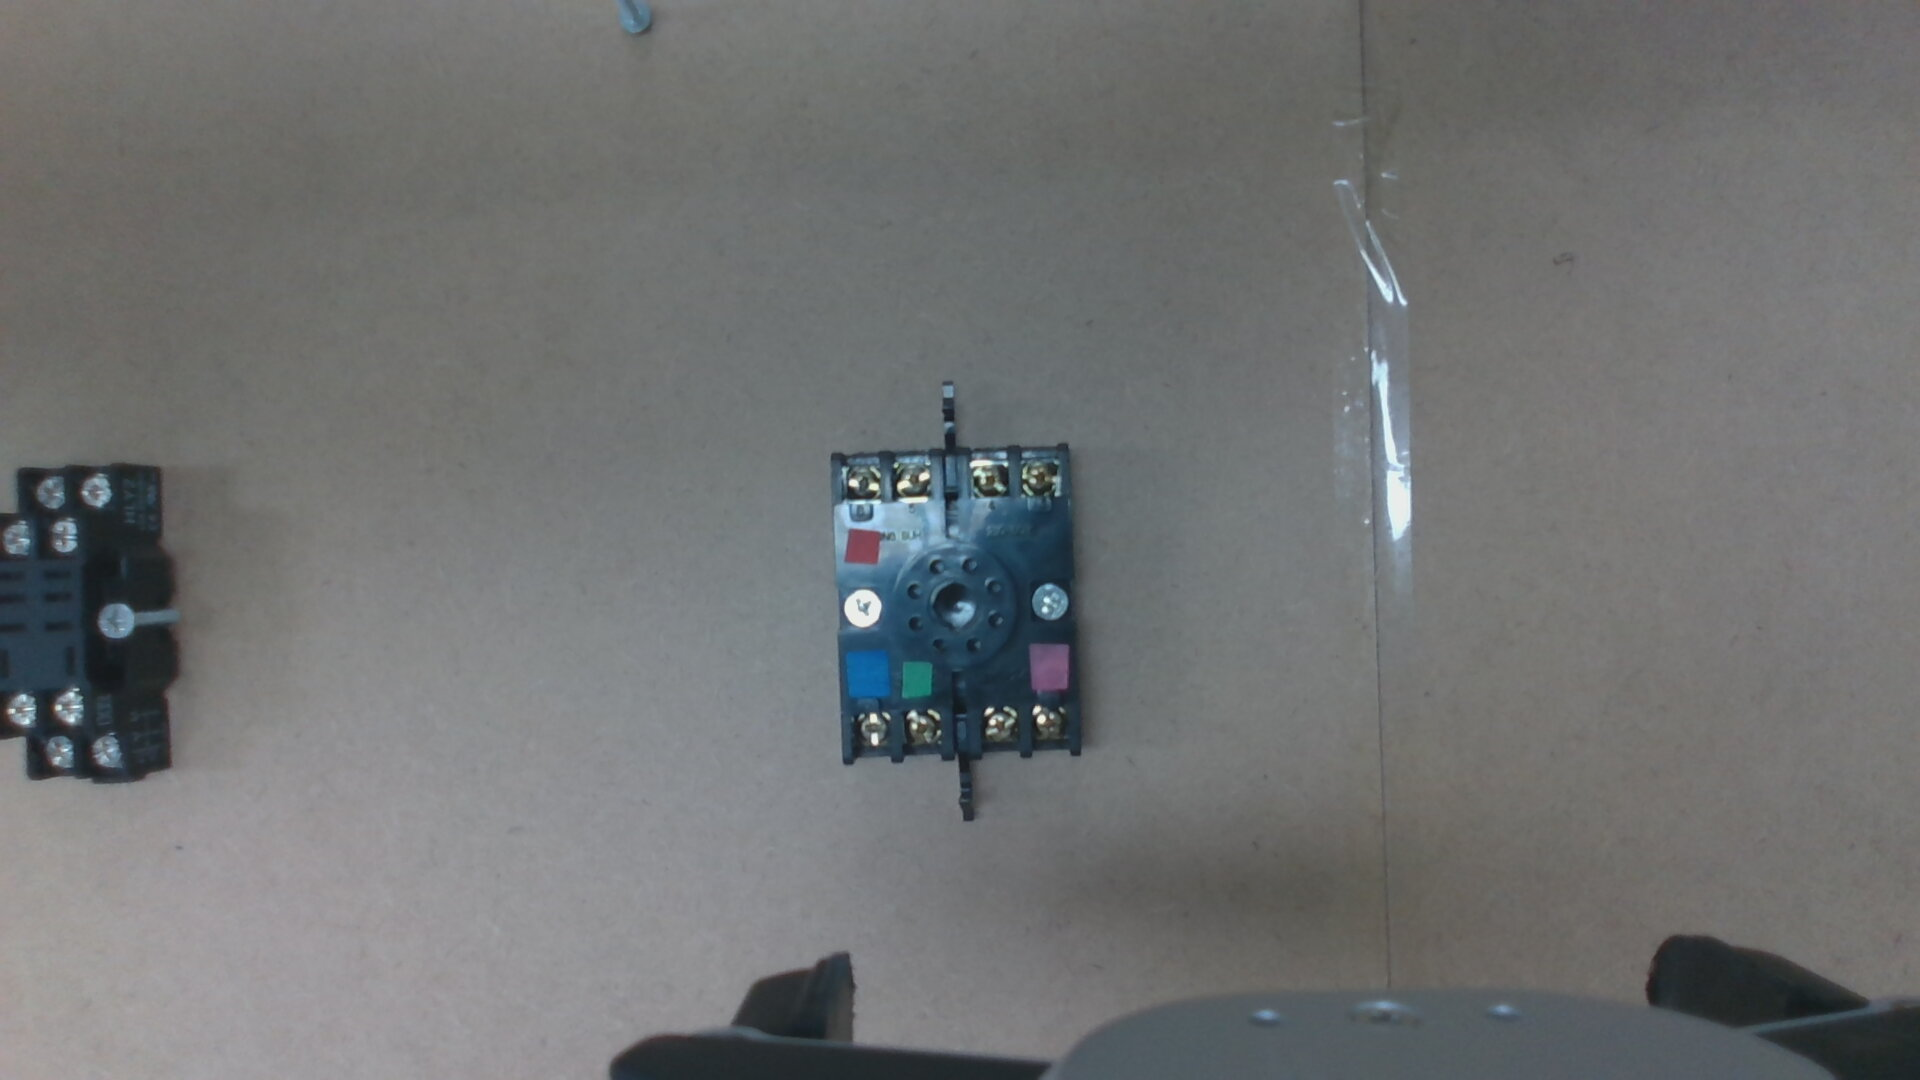timer 2: (1030, 705, 1065, 740)
timer 6: (844, 467, 880, 498)
timer 7: (852, 712, 889, 745)
timer 8: (905, 711, 942, 746)
